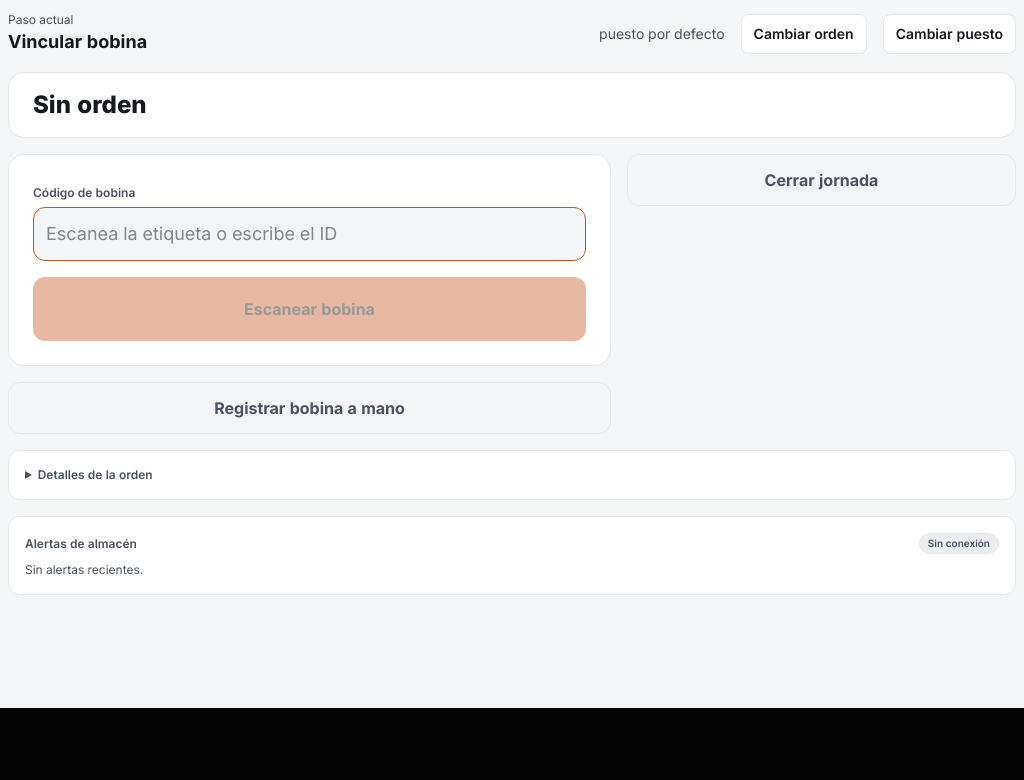
Test: Panel de Operario (directriz no abrumar) › muestra error si la bobina no existe
The width and height of the screenshot is (1024, 780).
Type "NO-EXISTE" into the field with placeholder "Escanea la etiqueta o escribe el ID".
click(310, 234); type("NO-EXISTE")  # box [33,207,586,261]
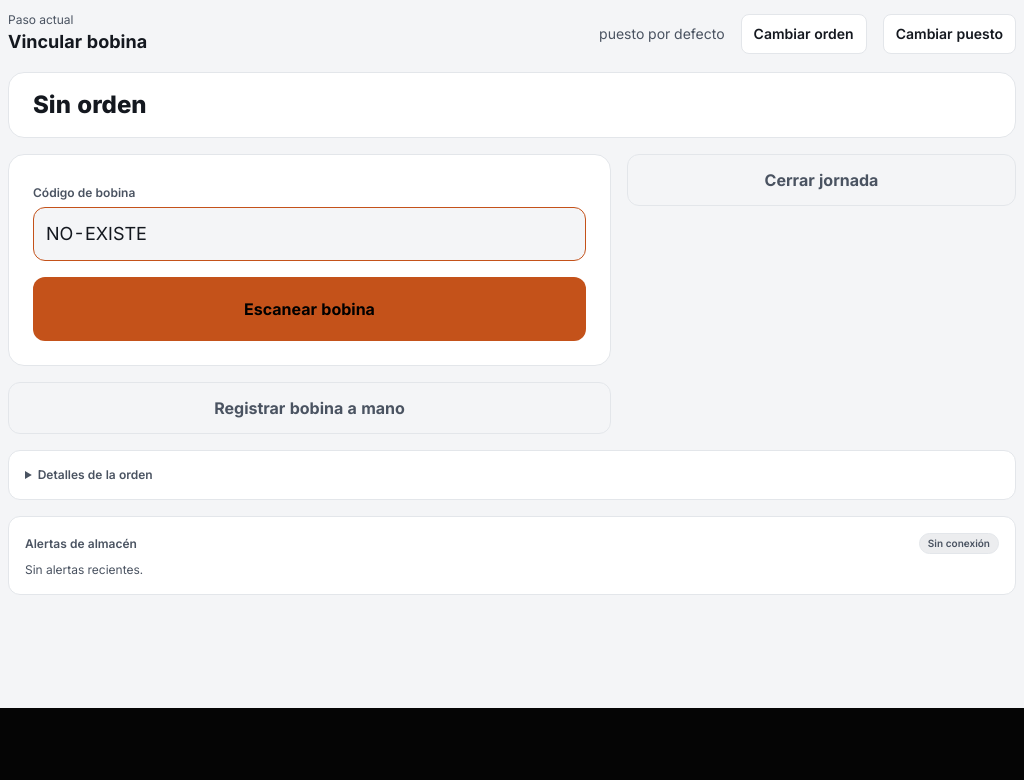
Click the button "Escanear bobina".
click(310, 309)  # box [33,277,586,341]
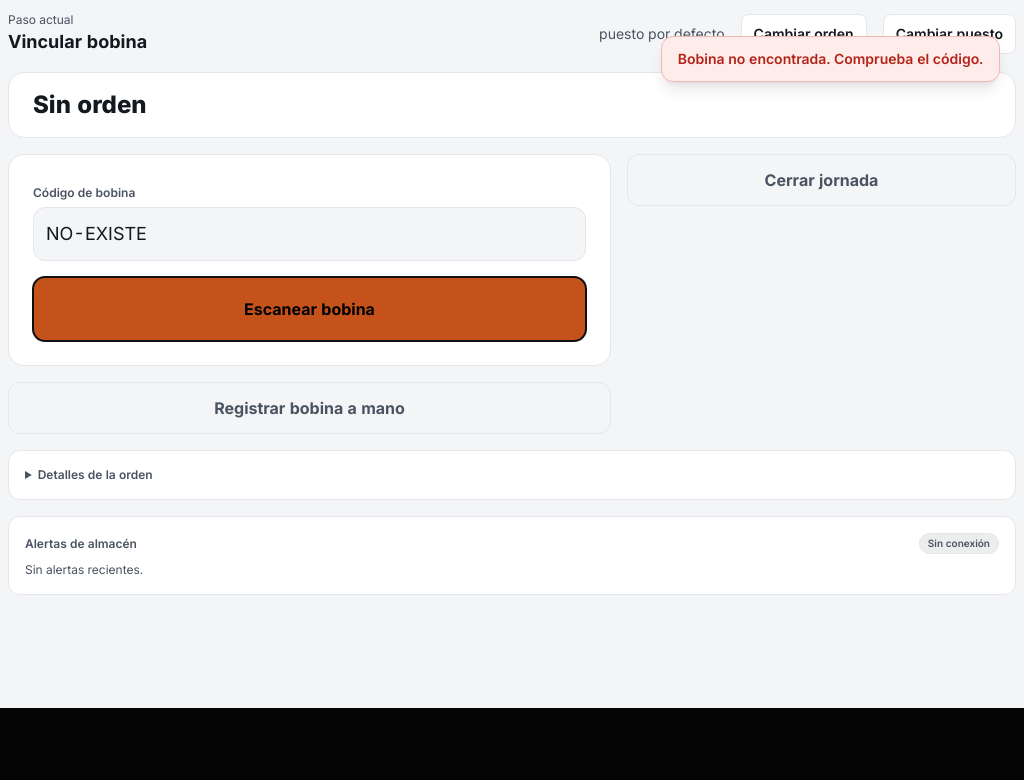
Expected: the text "Bobina no encontrada. Comprueba el código." is shown, [661,36,1000,82]
